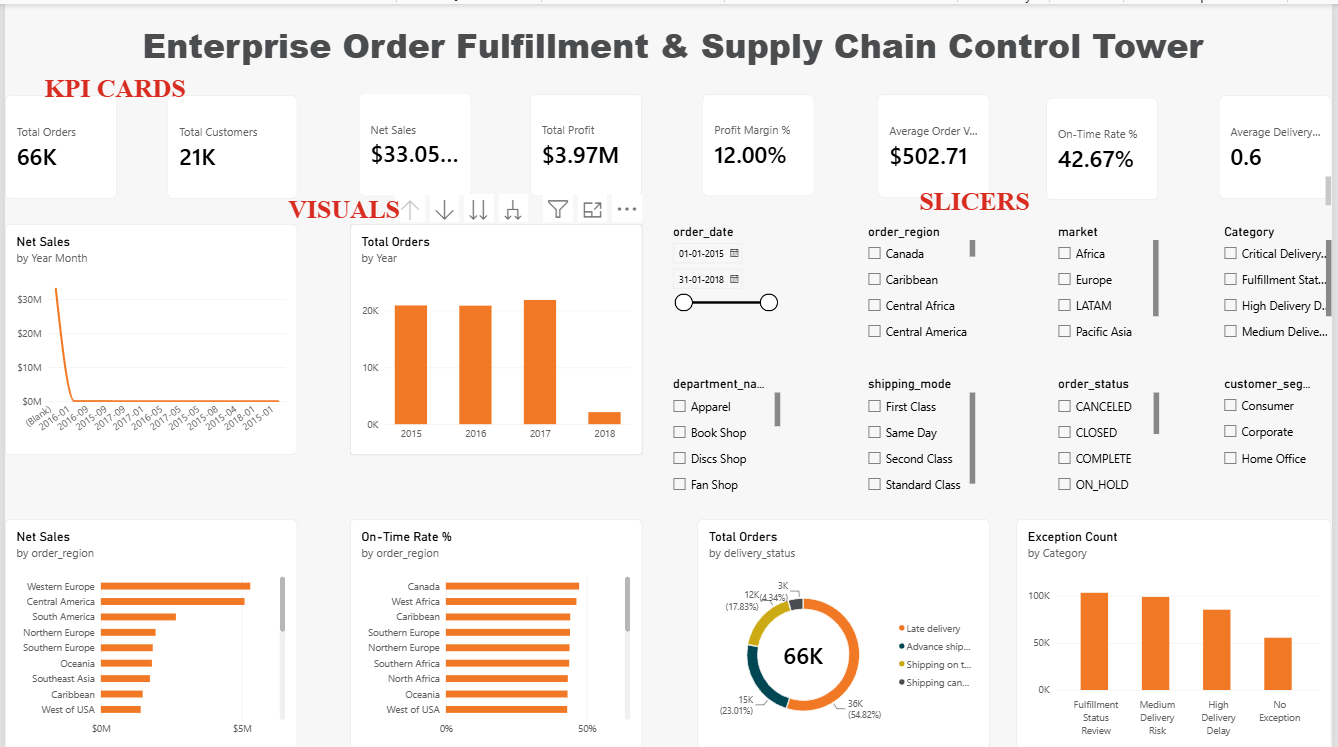

Layout of this report page (visuals, bound fields, positions):
{"tool":"powerbi","page":{"name":"Executive Control Tower","canvas":[1920,1080],"ordinal":0},"visuals":[{"type":"textbox","box":[0,0,1920.1,99.5],"z":0},{"type":"cardVisual","fields":{"Data":["Measure Table.Total Orders"]},"box":[0,132.1,162.9,150.2],"z":1},{"type":"cardVisual","fields":{"Data":["Measure Table.Total Customers"]},"box":[235.3,132.1,188.2,150.2],"z":2},{"type":"cardVisual","fields":{"Data":["Measure Table.Net Sales"]},"box":[512.1,128.5,163,150],"z":3},{"type":"cardVisual","fields":{"Data":["Measure Table.Total Profit"]},"box":[760.1,130.3,162.9,148.4],"z":4},{"type":"cardVisual","fields":{"Data":["Measure Table.Profit Margin %"]},"box":[1009.8,130.3,162.9,148.4],"z":5},{"type":"cardVisual","fields":{"Data":["Measure Table.Average Order Value"]},"box":[1263.1,130.3,162.9,150.2],"z":6},{"type":"cardVisual","fields":{"Data":["Measure Table.On-Time Rate %"]},"box":[1507.4,135.7,162.9,148.4],"z":7},{"type":"cardVisual","fields":{"Data":["Measure Table.Average Delivery Delay"]},"box":[1757.2,132.1,163,150],"z":8},{"type":"lineChart","fields":{"Category":["DateTable.Year Month"],"Y":["Measure Table.Net Sales"]},"box":[0,318.5,423.5,334.8],"z":9},{"type":"columnChart","fields":{"Category":["dataco_supply_chain_clean.year_month.Variation.Date Hierarchy.Year","dataco_supply_chain_clean.year_month.Variation.Date Hierarchy.Quarter","dataco_supply_chain_clean.year_month.Variation.Date Hierarchy.Month","dataco_supply_chain_clean.year_month.Variation.Date Hierarchy.Day"],"Y":["Measure Table.Total Orders"]},"box":[499.5,318.5,423,335],"z":10},{"type":"barChart","fields":{"Category":["dataco_supply_chain_clean.order_region"],"Y":["Measure Table.Net Sales"]},"box":[0,745.6,423,335],"z":11},{"type":"barChart","fields":{"Category":["dataco_supply_chain_clean.order_region"],"Y":["Measure Table.On-Time Rate %"]},"box":[499.5,745.6,423,335],"z":12},{"type":"donutChart","fields":{"Category":["dataco_supply_chain_clean.delivery_status"],"Y":["Measure Table.Total Orders"]},"box":[1002.6,745.6,423.5,334.8],"z":13},{"type":"clusteredColumnChart","fields":{"Category":["Exception Categories.Category"],"Y":["Exception Categories.Exception Count"]},"box":[1464,745.6,456,334.8],"z":14},{"type":"slicer","fields":{"Values":["dataco_supply_chain_clean.order_date"]},"box":[959.1,318.5,162.9,168.3],"z":15},{"type":"slicer","fields":{"Values":["dataco_supply_chain_clean.order_region"]},"box":[1241.4,318.5,162.9,168.3],"z":16},{"type":"slicer","fields":{"Values":["dataco_supply_chain_clean.market"]},"box":[1516.5,318.5,153.8,168.3],"z":17},{"type":"slicer","fields":{"Values":["Exception Categories.Category"]},"box":[1757.2,318.5,162.9,168.3],"z":18},{"type":"textbox","box":[1040.6,249.7,879.5,50.7],"z":19},{"type":"slicer","fields":{"Values":["dataco_supply_chain_clean.department_name"]},"box":[959.1,539.3,163,167],"z":20},{"type":"slicer","fields":{"Values":["dataco_supply_chain_clean.shipping_mode"]},"box":[1241.4,539.3,163,167],"z":21},{"type":"slicer","fields":{"Values":["dataco_supply_chain_clean.order_status"]},"box":[1516.5,539.3,154,167],"z":22},{"type":"slicer","fields":{"Values":["dataco_supply_chain_clean.customer_segment"]},"box":[1757.2,539.3,163,167],"z":23},{"type":"textbox","box":[0,99.5,285.9,48.9],"z":24},{"type":"textbox","box":[347.5,275.1,575.5,43.4],"z":25}]}

Visuals, with their boxes on the page's 1920x1080 design canvas (x1, y1, x2, y2). These are canvas units, not pixel positions in the 1338x747 screenshot, which may show the page scaled, cropped or inside an application window:
textbox: Rect(0, 0, 1920, 100)
cardVisual - Measure Table.Total Orders: Rect(0, 132, 163, 282)
cardVisual - Measure Table.Total Customers: Rect(235, 132, 424, 282)
cardVisual - Measure Table.Net Sales: Rect(512, 128, 675, 278)
cardVisual - Measure Table.Total Profit: Rect(760, 130, 923, 279)
cardVisual - Measure Table.Profit Margin %: Rect(1010, 130, 1173, 279)
cardVisual - Measure Table.Average Order Value: Rect(1263, 130, 1426, 280)
cardVisual - Measure Table.On-Time Rate %: Rect(1507, 136, 1670, 284)
cardVisual - Measure Table.Average Delivery Delay: Rect(1757, 132, 1920, 282)
lineChart - DateTable.Year Month x Measure Table.Net Sales: Rect(0, 318, 424, 653)
columnChart - dataco_supply_chain_clean.year_month.Variation.Date Hierarchy.Year x dataco_supply_chain_clean.year_month.Variation.Date Hierarchy.Quarter: Rect(500, 318, 922, 654)
barChart - dataco_supply_chain_clean.order_region x Measure Table.Net Sales: Rect(0, 746, 423, 1081)
barChart - dataco_supply_chain_clean.order_region x Measure Table.On-Time Rate %: Rect(500, 746, 922, 1081)
donutChart - dataco_supply_chain_clean.delivery_status x Measure Table.Total Orders: Rect(1003, 746, 1426, 1080)
clusteredColumnChart - Exception Categories.Category x Exception Categories.Exception Count: Rect(1464, 746, 1920, 1080)
slicer - dataco_supply_chain_clean.order_date: Rect(959, 318, 1122, 487)
slicer - dataco_supply_chain_clean.order_region: Rect(1241, 318, 1404, 487)
slicer - dataco_supply_chain_clean.market: Rect(1516, 318, 1670, 487)
slicer - Exception Categories.Category: Rect(1757, 318, 1920, 487)
textbox: Rect(1041, 250, 1920, 300)
slicer - dataco_supply_chain_clean.department_name: Rect(959, 539, 1122, 706)
slicer - dataco_supply_chain_clean.shipping_mode: Rect(1241, 539, 1404, 706)
slicer - dataco_supply_chain_clean.order_status: Rect(1516, 539, 1670, 706)
slicer - dataco_supply_chain_clean.customer_segment: Rect(1757, 539, 1920, 706)
textbox: Rect(0, 100, 286, 148)
textbox: Rect(348, 275, 923, 318)
